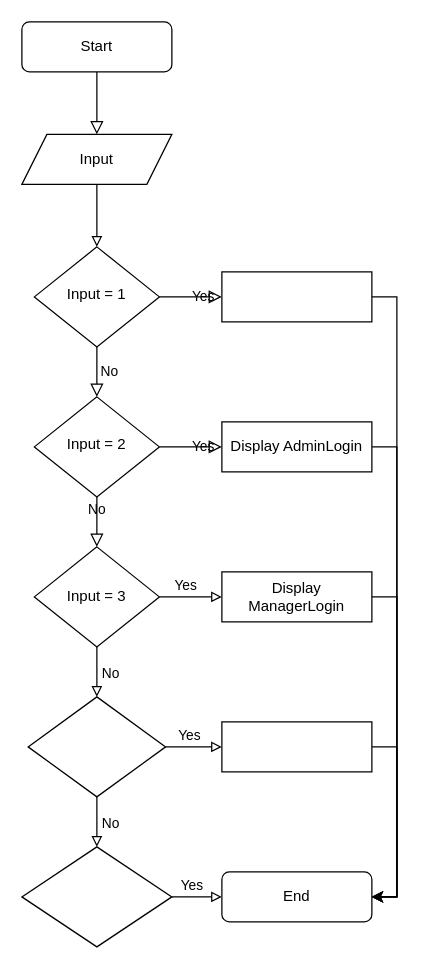
This 429x969 diagram has some shape labels left out. Here are the shapes that lost their labels. From the top down, the centre of each, then its label:
point 296,296: Display GeneralView
point 96,746: Input = 4
point 296,746: Display CustomerLogin
point 96,896: Input = 5
